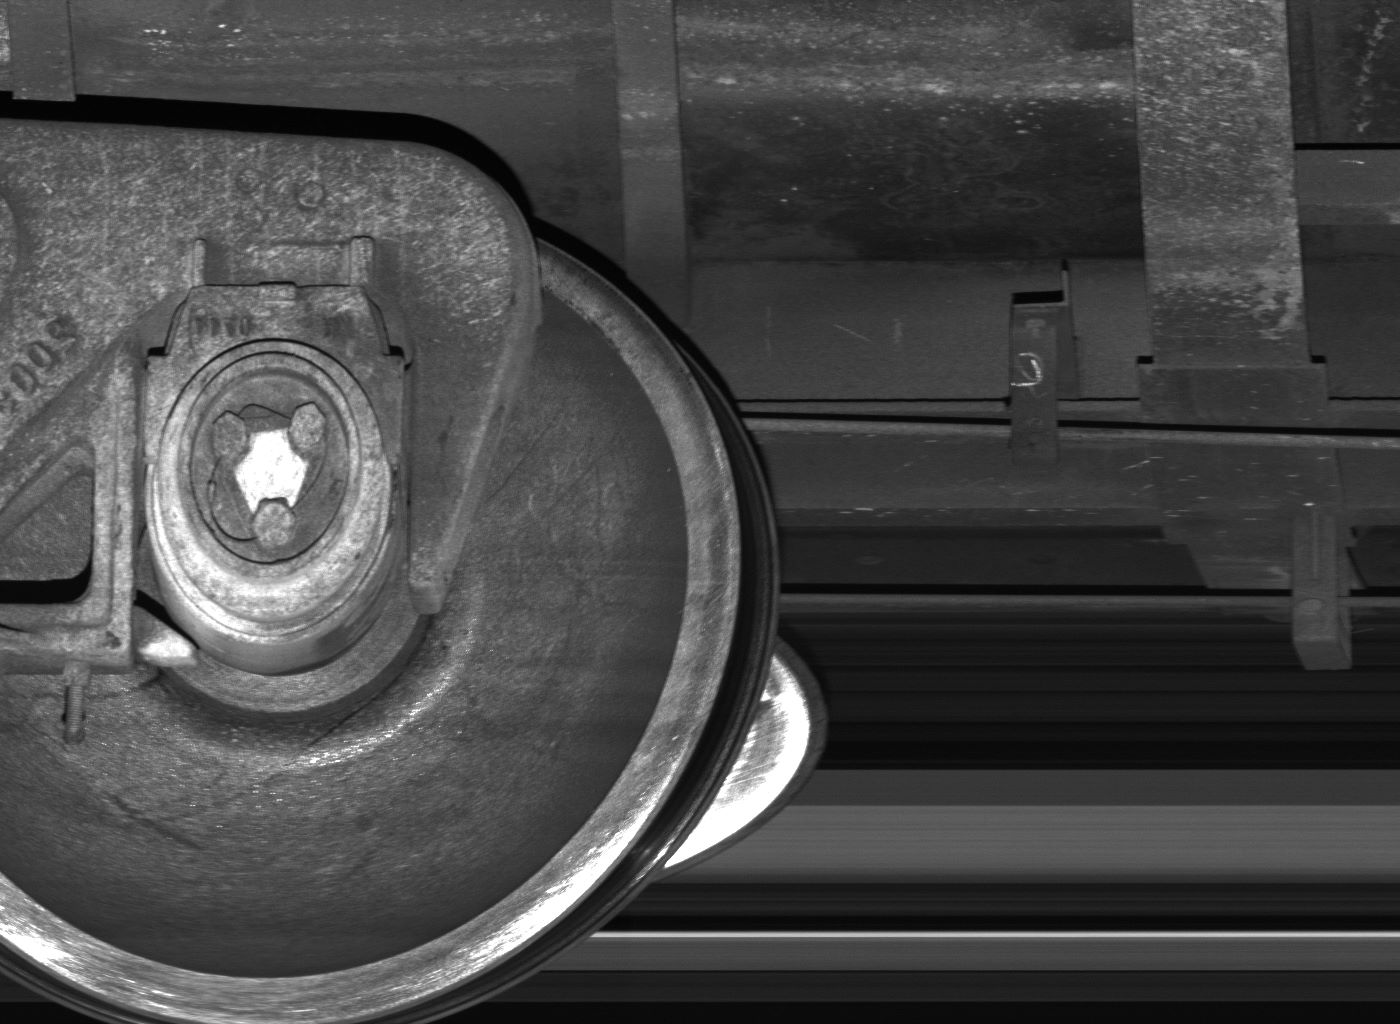normal: (1009, 272, 1072, 461), (1291, 512, 1357, 671)
